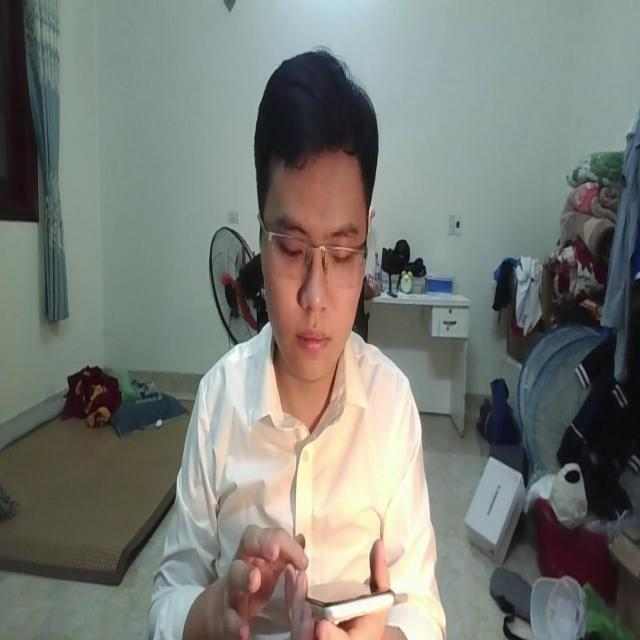phone: (301, 564, 396, 623)
student: (153, 37, 445, 640)
